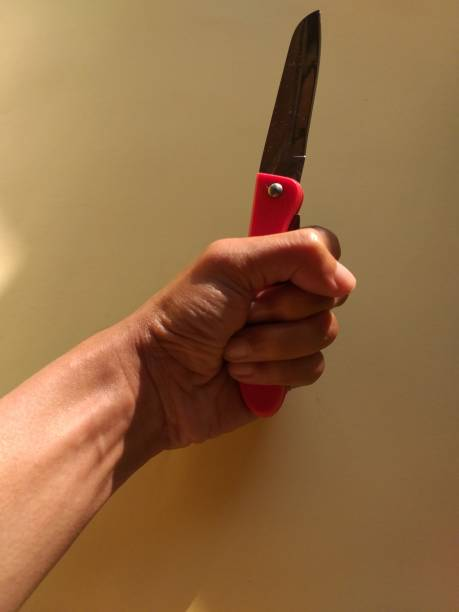knife: (234, 6, 324, 422)
